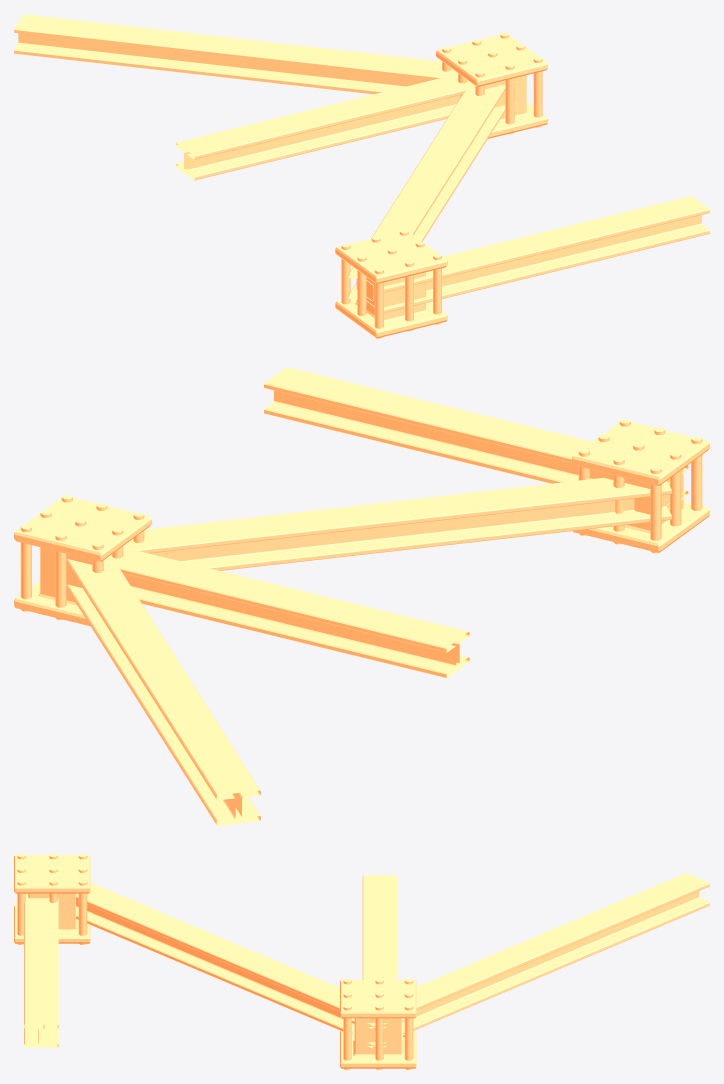
3 renders of one model, top to bottom at view 1: azimuth 30°, elevation 25°; view 2: azimuth 150°, elevation 25°; view 3: azimuth 270°, elevation 25°, orthographic. The views are drawn at different scales.
Visible parts, largest first — view 1: SM_Grid3_LOD0; view 2: SM_Grid3_LOD0; view 3: SM_Grid3_LOD0.
Boxes of the visible parts, box(x1,y1,x2,y2) form: SM_Grid3_LOD0: box(14, 14, 709, 338); SM_Grid3_LOD0: box(14, 367, 709, 825); SM_Grid3_LOD0: box(14, 854, 709, 1069).
Size of the model in its own units: 175 by 328 by 32.16.
